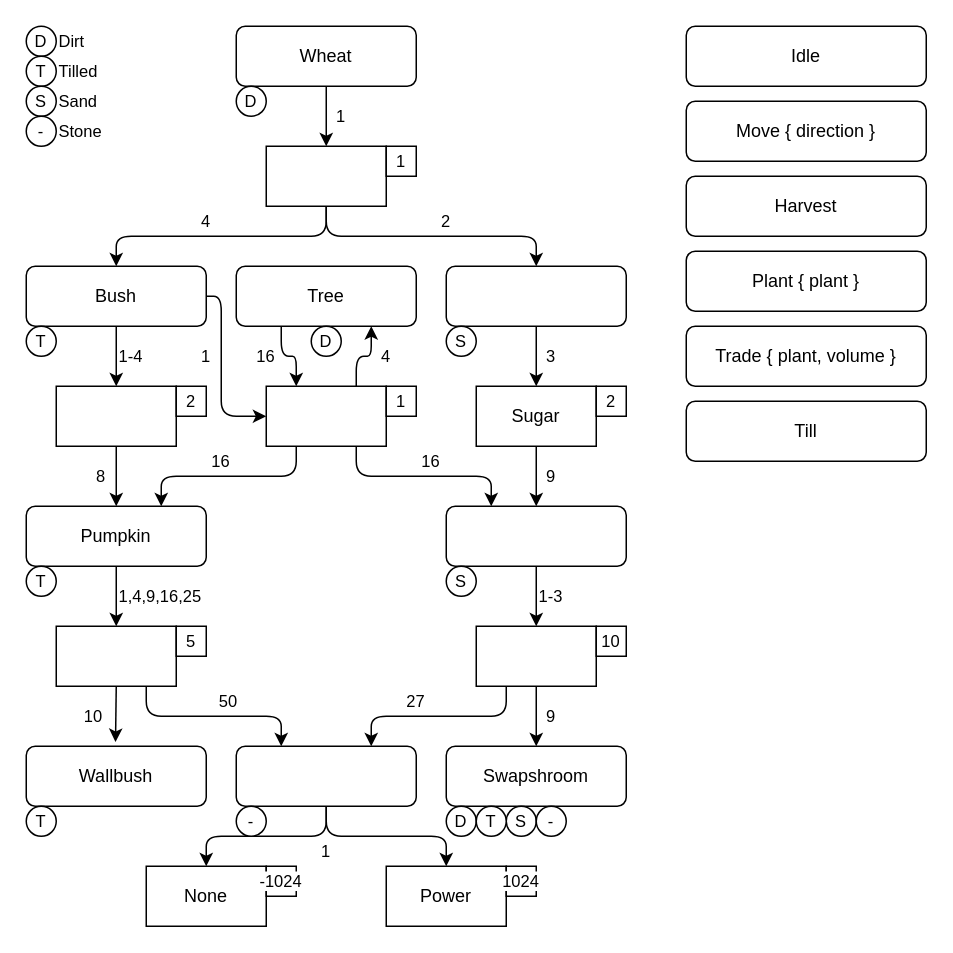
This 953x953 diagram has some shape labels left out. Each missing label, with the centre of its shape:
"Berries" goes at (115,415).
"Cactus" goes at (535,535).
"CactusMeat" goes at (535,655).
"Cane" goes at (535,295).
"Grains" goes at (325,175).
"PumpkinSeeds" goes at (115,655).
"Sunflower" goes at (325,775).
"Wood" goes at (325,415).
